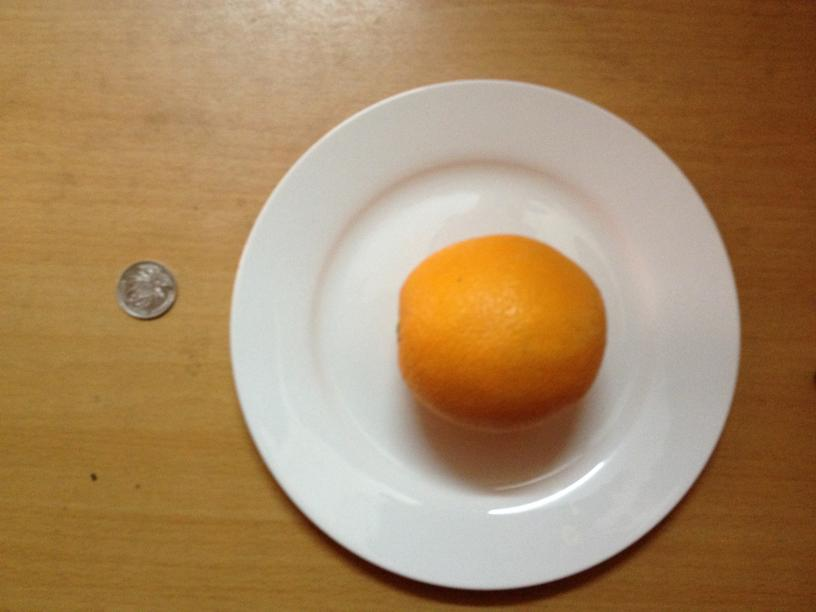coin: (116, 261, 177, 319)
orange: (398, 236, 604, 429)
